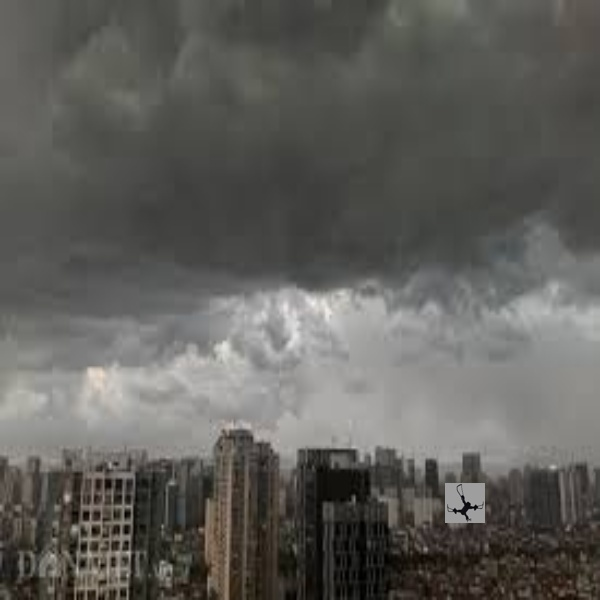drone: (443, 479, 488, 528)
